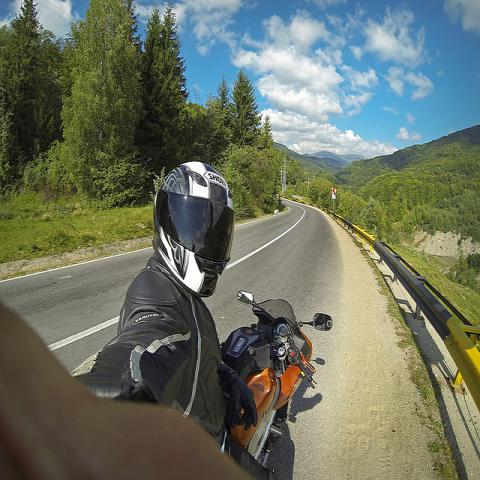motorcycle: (221, 290, 338, 477)
